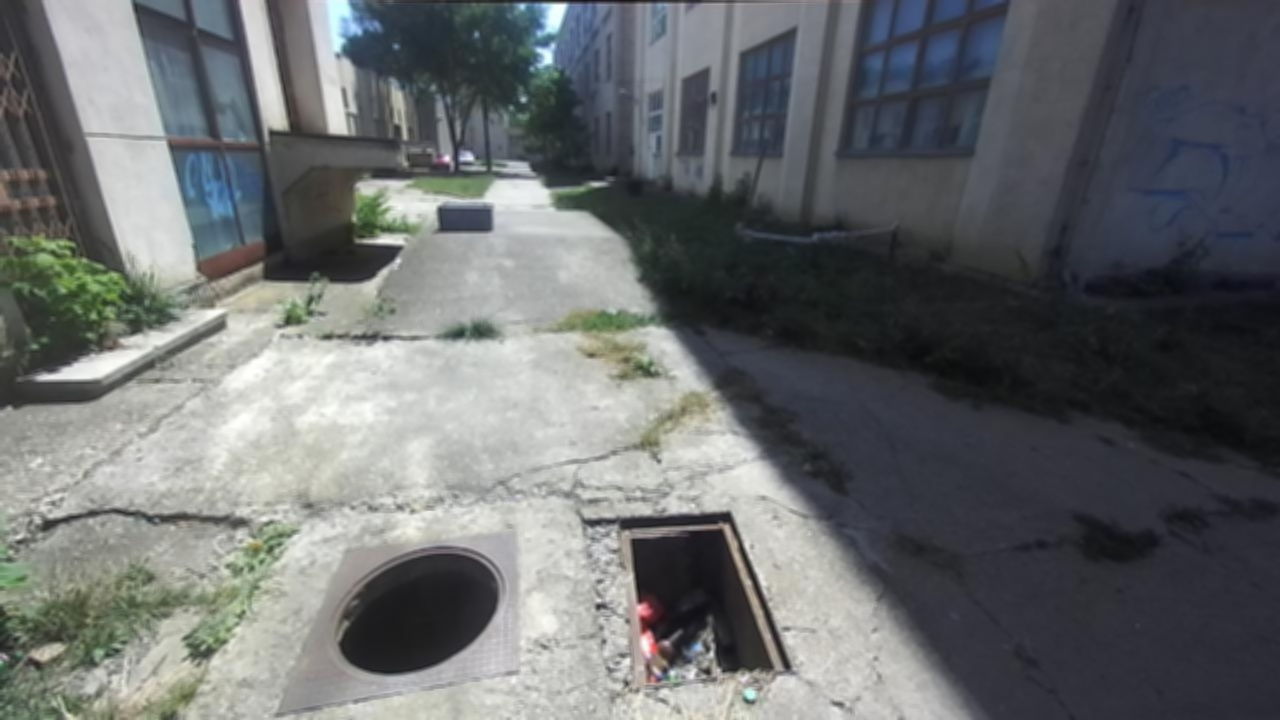drain: (612, 508, 793, 685), (322, 542, 509, 677)
